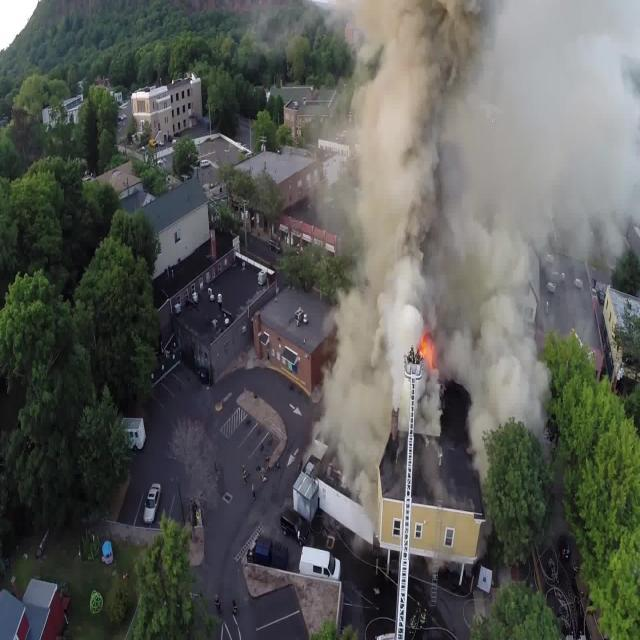Fire: (420, 334, 442, 369)
Smoke: (370, 7, 511, 310), (463, 25, 623, 209), (452, 100, 529, 382), (336, 310, 389, 438)
